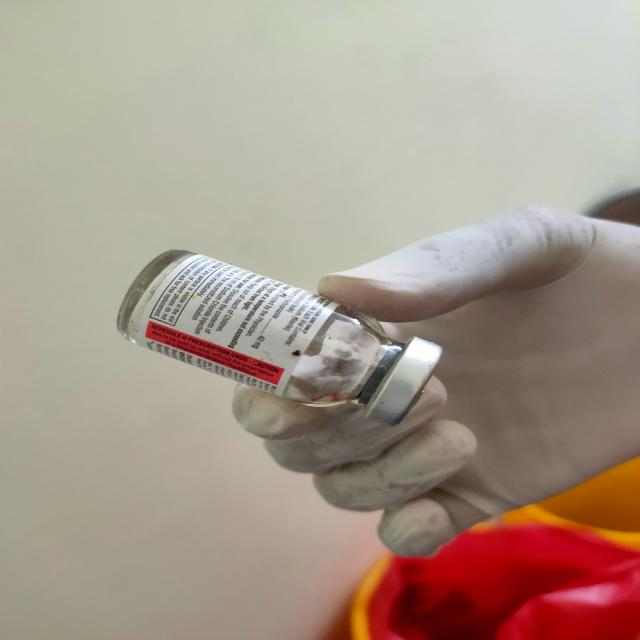B3: (107, 244, 451, 426)
